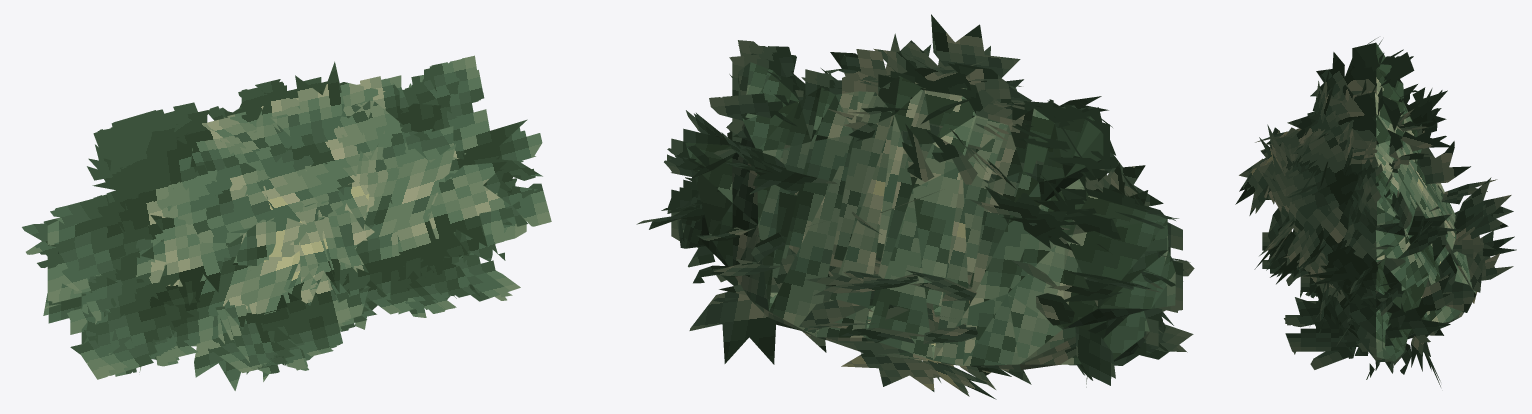
The model's file is leafy_1288_cut_hd.glb.
The picture shows the model from 3 angles, left to right: view 1: azimuth 30°, elevation 25°; view 2: azimuth 150°, elevation 25°; view 3: azimuth 270°, elevation 25°; orthographic projection. The views are drawn at different scales.
Parts seen in each view (by area): view 1: leafy_1288_cut_lod0; view 2: leafy_1288_cut_lod0; view 3: leafy_1288_cut_lod0.
Boxes of the visible parts, x1=… form: leafy_1288_cut_lod0: x1=22, y1=55, x2=551, y2=390; leafy_1288_cut_lod0: x1=636, y1=14, x2=1194, y2=399; leafy_1288_cut_lod0: x1=1235, y1=37, x2=1516, y2=386.
Size of the model in its own units: 0.9666 by 0.565 by 0.5432.
Materials: 1 (1 with a texture image).
